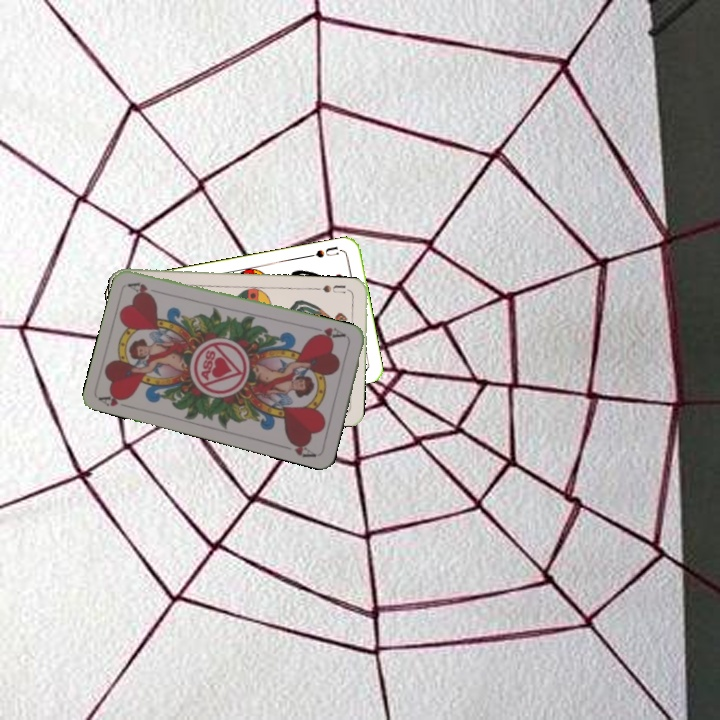HA: (96, 389, 136, 411), (309, 323, 350, 343)
SU: (304, 243, 345, 260), (319, 281, 348, 296)
